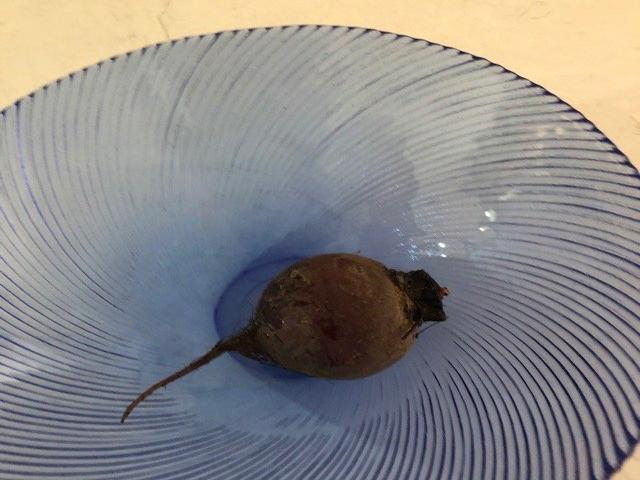beet: (121, 255, 446, 422)
